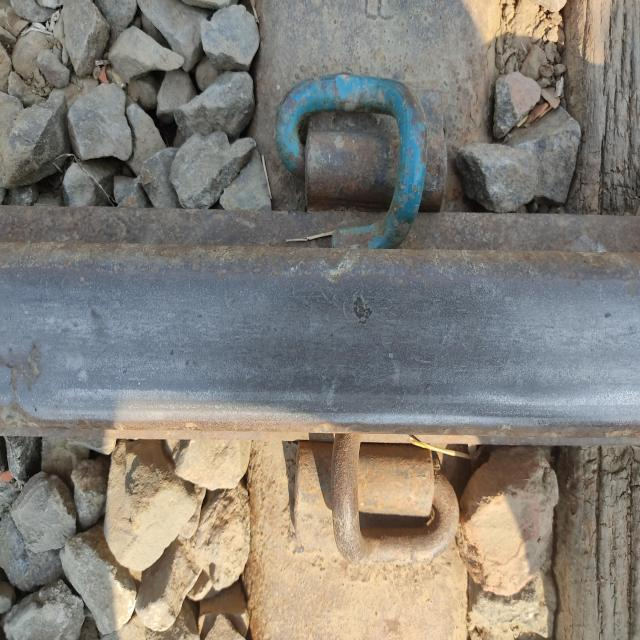broken_rail_medium: (0, 339, 41, 397), (351, 292, 372, 328)
